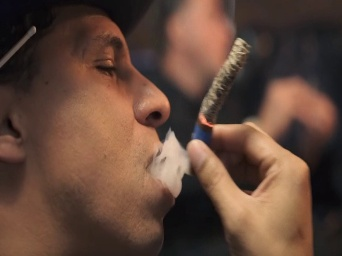smoke: (191, 35, 250, 167)
